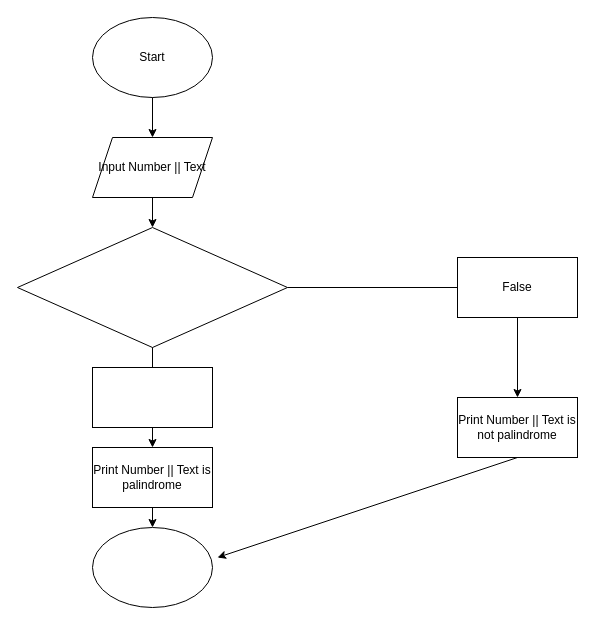
This 595x625 diagram has some shape labels left out. The shapes that lost their labels are listed below. From the top down, each one's centre as x and y in pixels, then its label:
the point at 152,287: if(input Number || Text==Reverse Number || Text
the point at 152,397: True
the point at 152,567: End
